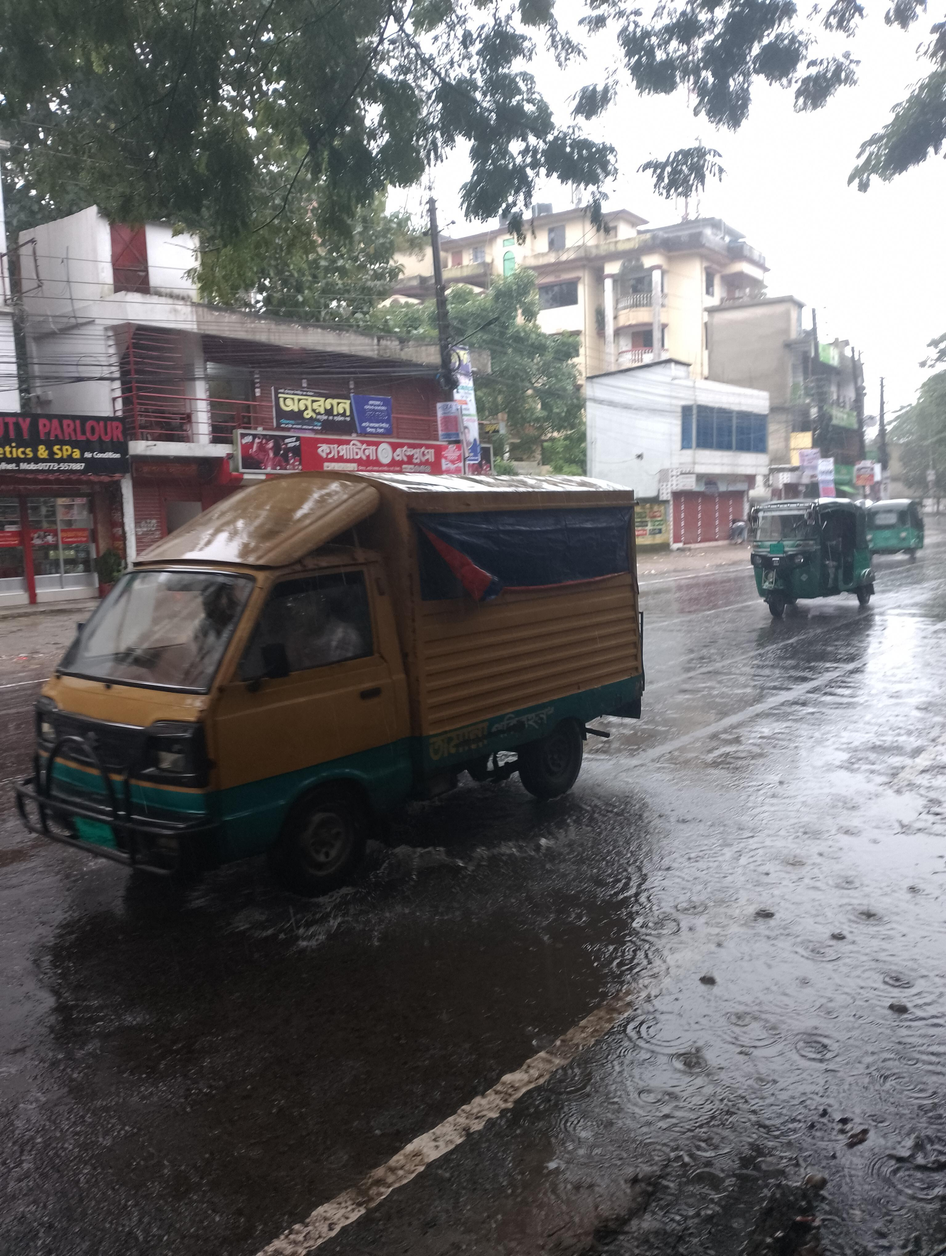Car: (13, 414, 681, 915)
